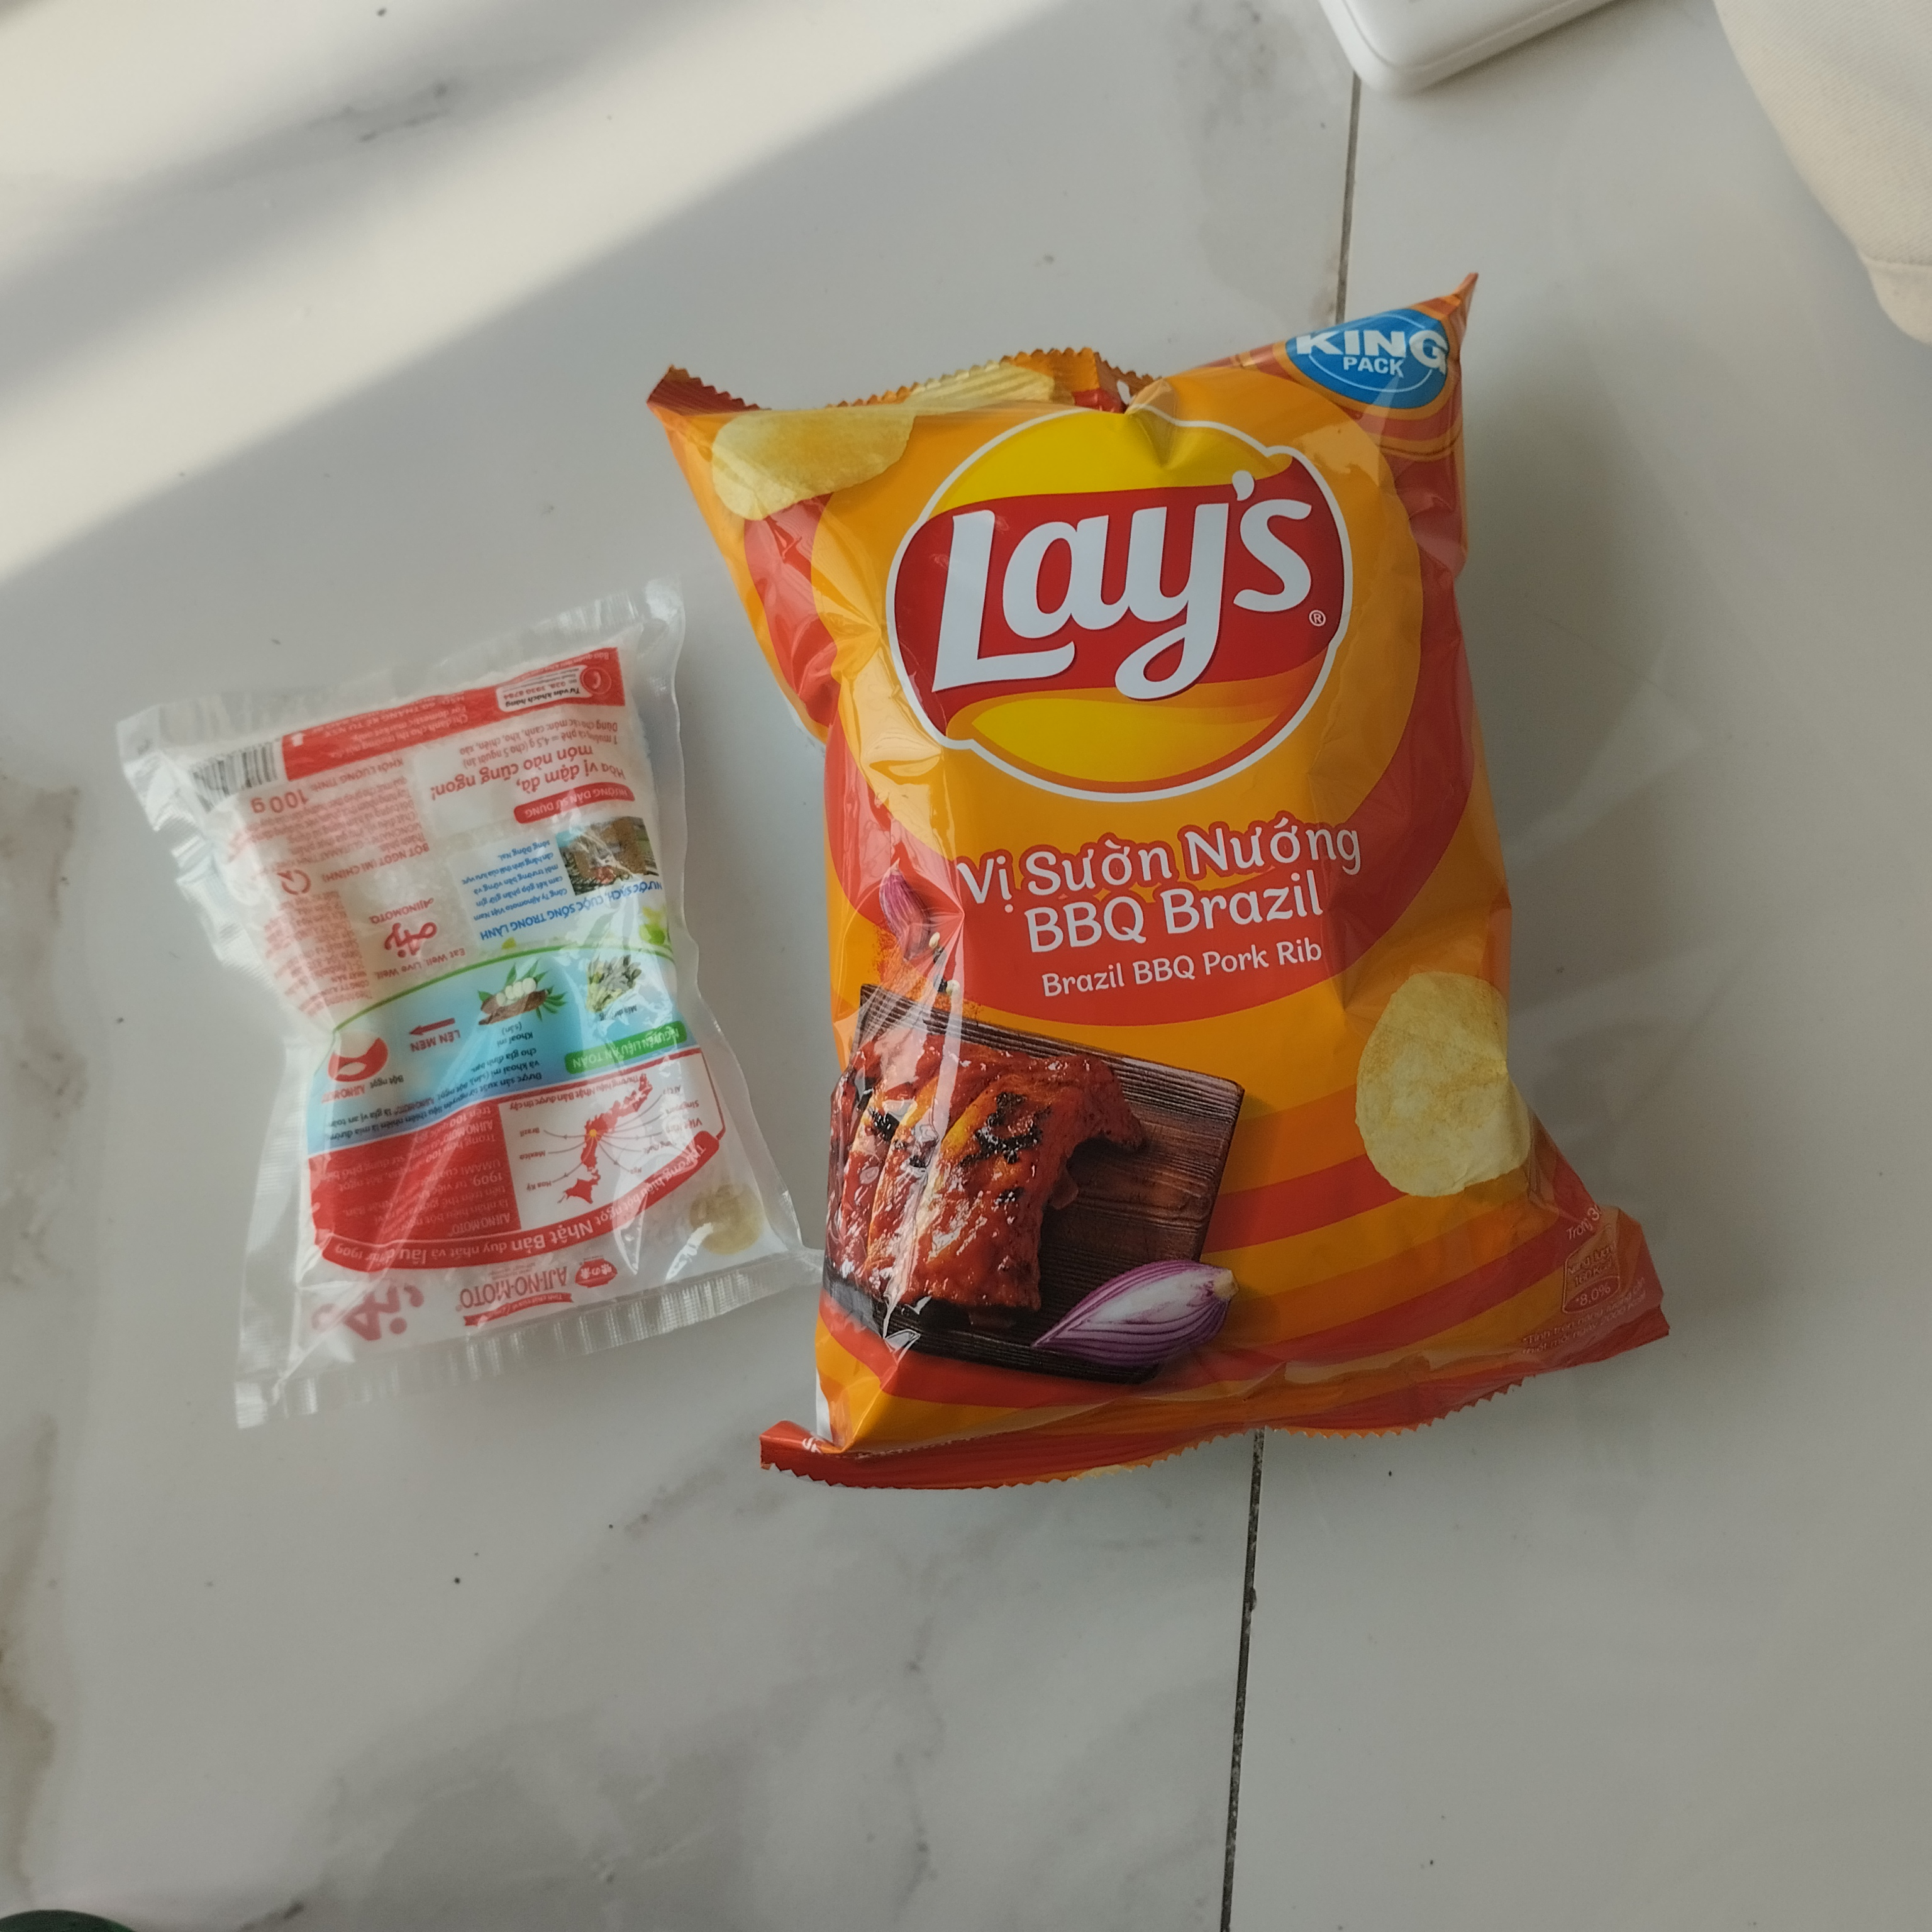Ajinomoto: (106, 600, 816, 1445)
Lays: (633, 258, 1702, 1507)
